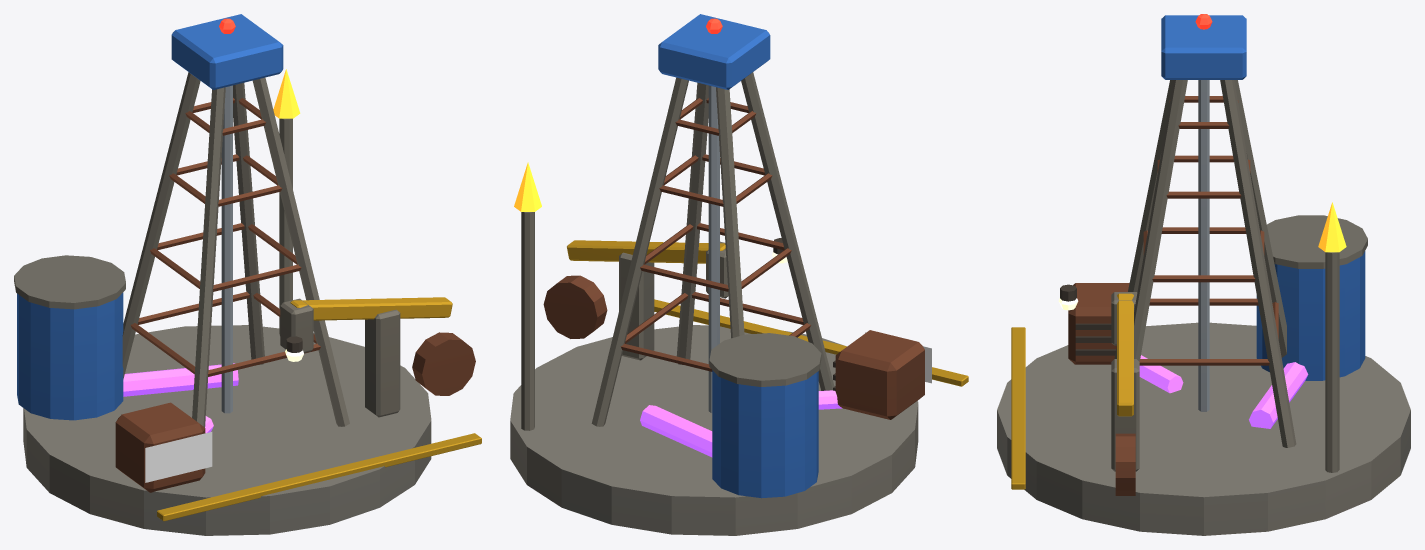
The model's file is mine.glb.
3 views of the same model, side by side, from view 1: azimuth 30°, elevation 25°; view 2: azimuth 150°, elevation 25°; view 3: azimuth 270°, elevation 25° (orthographic).
Parts seen in each view (by area): view 1: mine, tag_0; view 2: mine; view 3: mine.
Part boxes in pixels (x1,y1,x2,y2): mine: [14, 14, 481, 535]; tag_0: [145, 432, 212, 482]; mine: [510, 14, 968, 535]; mine: [997, 14, 1410, 535].
Bounding box in the file's own units: 3.12 × 3.36 × 2.9.
